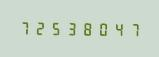eight: (77, 19, 91, 37)
five: (47, 19, 61, 36)
four: (107, 20, 121, 37)
seven: (17, 18, 31, 36), (122, 20, 136, 37)
three: (62, 19, 76, 36)
two: (32, 19, 46, 36)
zero: (92, 20, 106, 37)
